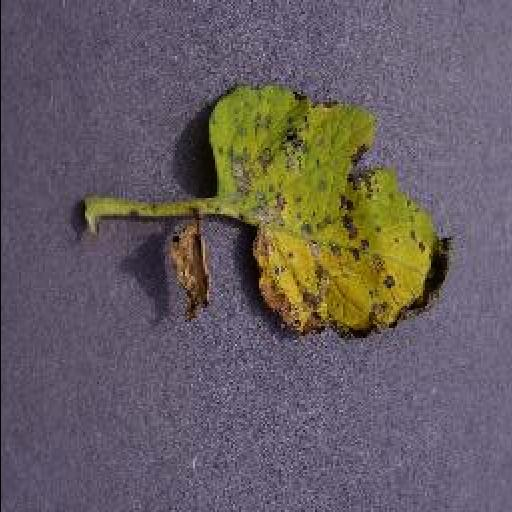disease_tomato: (202, 82, 454, 340)
